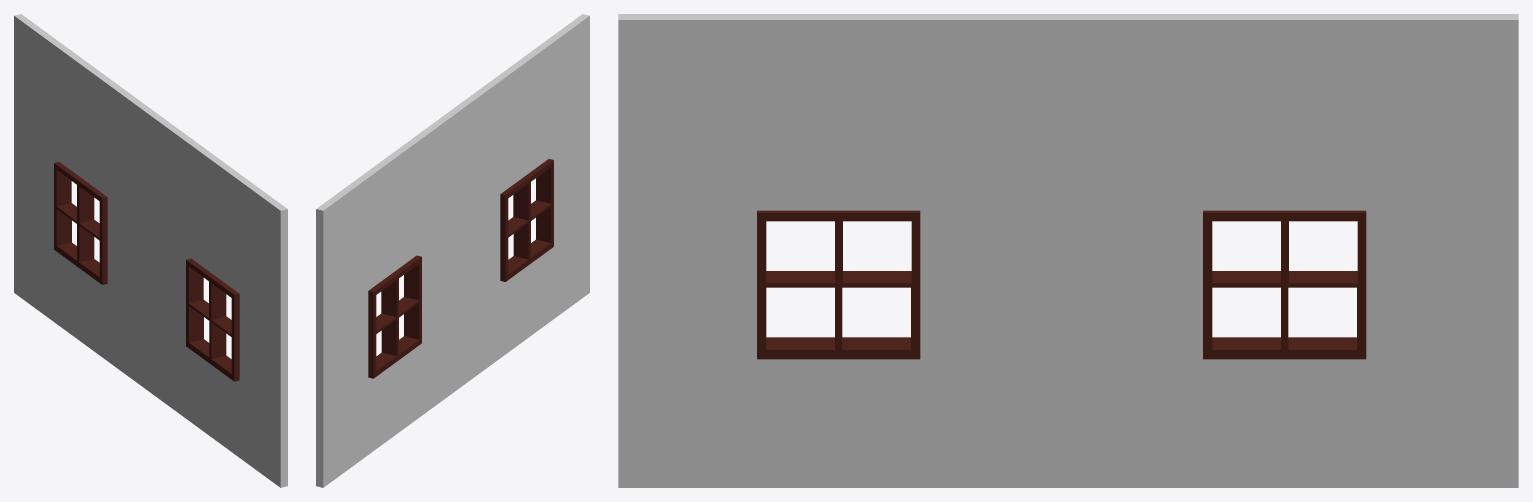
The model's file is Wallwithwindows.fbx.
3 views of the same model, side by side, from view 1: azimuth 30°, elevation 25°; view 2: azimuth 150°, elevation 25°; view 3: azimuth 270°, elevation 25° (orthographic). The views are drawn at different scales.
Visible parts, largest first — view 1: Cube.003, Cube.001, Cube.002; view 2: Cube.003, Cube.002, Cube.001; view 3: Cube.003, Cube.001, Cube.002.
Boxes of the visible parts, x1,y1,x2,y2 form: Cube.003: [14, 14, 287, 487]; Cube.001: [186, 258, 239, 381]; Cube.002: [54, 162, 107, 284]; Cube.003: [316, 14, 589, 487]; Cube.002: [368, 255, 421, 378]; Cube.001: [500, 159, 553, 281]; Cube.003: [618, 14, 1518, 487]; Cube.001: [757, 210, 920, 359]; Cube.002: [1203, 210, 1366, 359].
Bounding box in the file's own units: 30 × 527 × 918.
